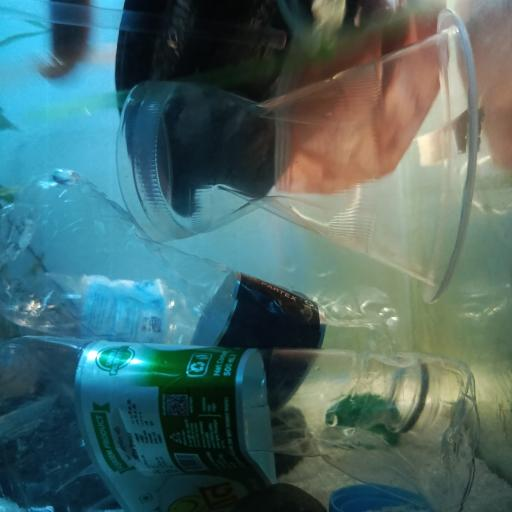bottle_cap: (326, 393, 400, 449), (327, 483, 433, 512)
mask: (114, 0, 334, 217), (278, 0, 454, 194)
plastic_bottle: (0, 170, 437, 427), (1, 338, 479, 510), (3, 274, 400, 366)
plastic_cup: (114, 10, 480, 305)
plastic_straw: (1, 0, 288, 51)
